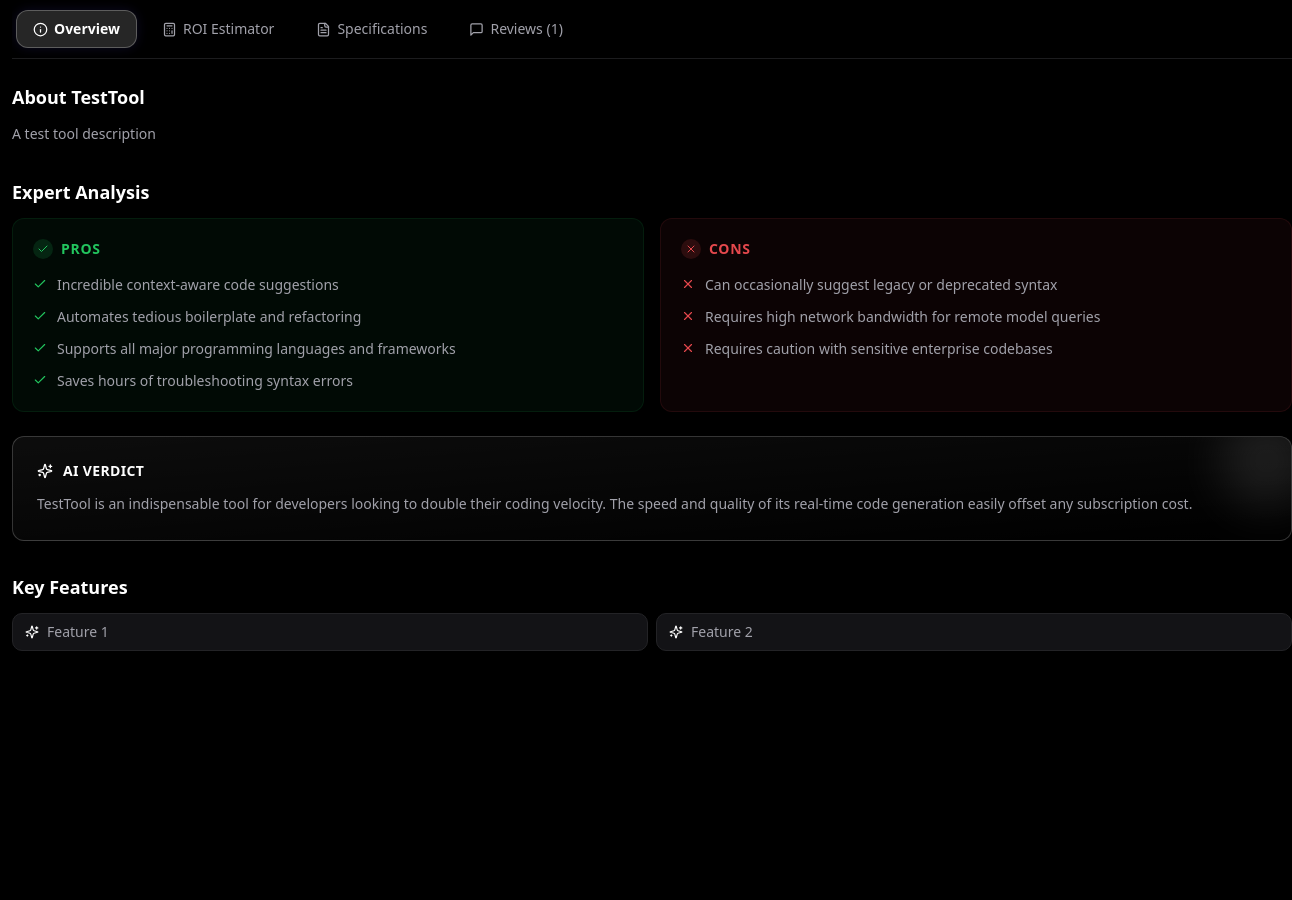
it: ToolTabs › switches to Specifications tab
Click the button "Specifications": click(372, 29) [299,10,444,48]
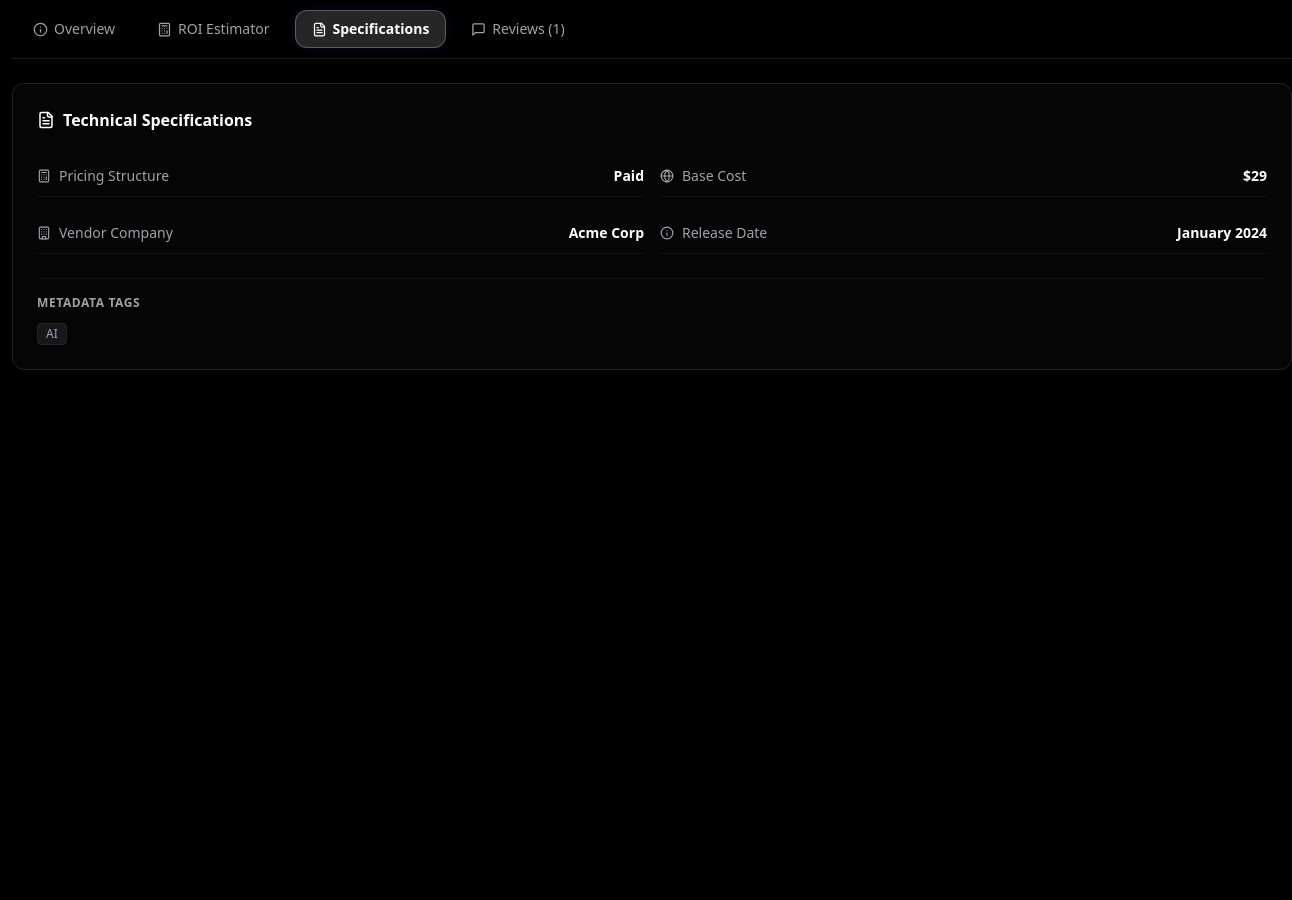
Check: the heading "Technical Specifications" is shown, box [37,109,252,131]
Check: the text "paid" is shown, box [614,166,644,186]
Check: the text "$29" is shown, box [1243,166,1267,186]
